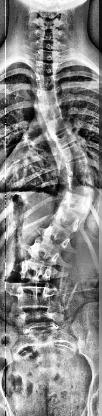Vertebrae: (25, 226, 85, 250), (39, 211, 95, 233), (7, 286, 61, 308), (12, 310, 66, 330), (13, 244, 73, 262), (11, 262, 63, 282), (58, 177, 102, 199), (55, 193, 98, 215), (57, 158, 97, 178), (54, 145, 90, 163), (46, 130, 84, 147), (34, 103, 68, 122), (30, 90, 66, 106), (28, 75, 64, 91), (40, 118, 74, 134), (28, 64, 66, 78)
